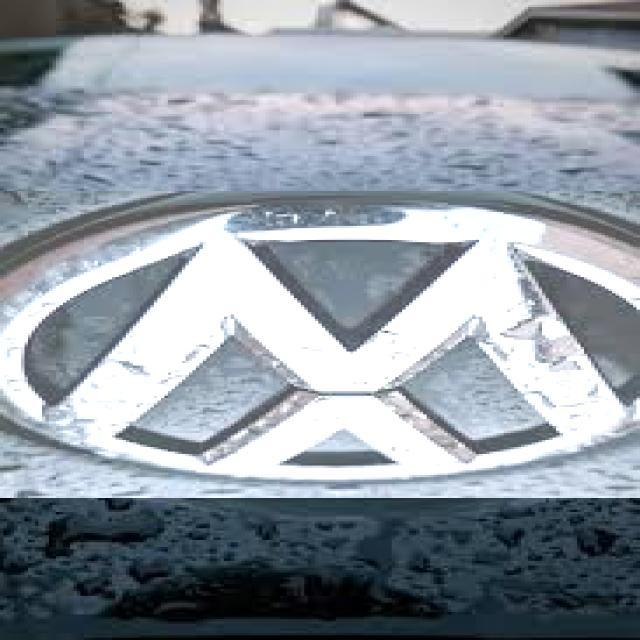volkswagen: (0, 191, 640, 498)
